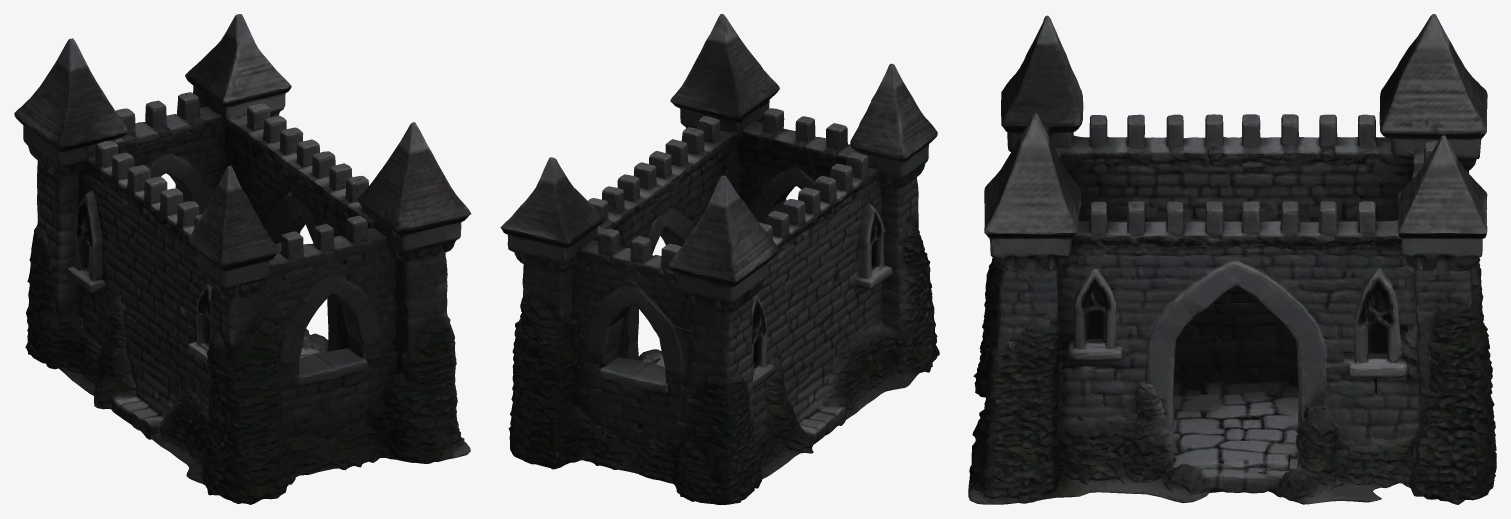
The model's file is basalt_small_01.glb.
The picture shows the model from 3 angles, left to right: view 1: azimuth 30°, elevation 25°; view 2: azimuth 150°, elevation 25°; view 3: azimuth 270°, elevation 25°; orthographic projection. The views are drawn at different scales.
Visible parts, largest first — view 1: geometry_0; view 2: geometry_0; view 3: geometry_0.
Part boxes in pixels (bbox=[...]): geometry_0: bbox=[14, 14, 471, 504]; geometry_0: bbox=[500, 14, 939, 504]; geometry_0: bbox=[968, 14, 1496, 504].
Bounding box in the file's own units: 0.6263 × 0.7953 × 1.
1 material, 1 textured.
